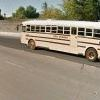buses: (16, 20, 100, 62)
